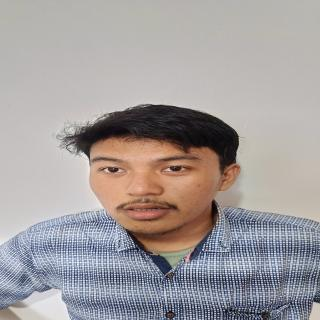Takut: (84, 128, 240, 238)
